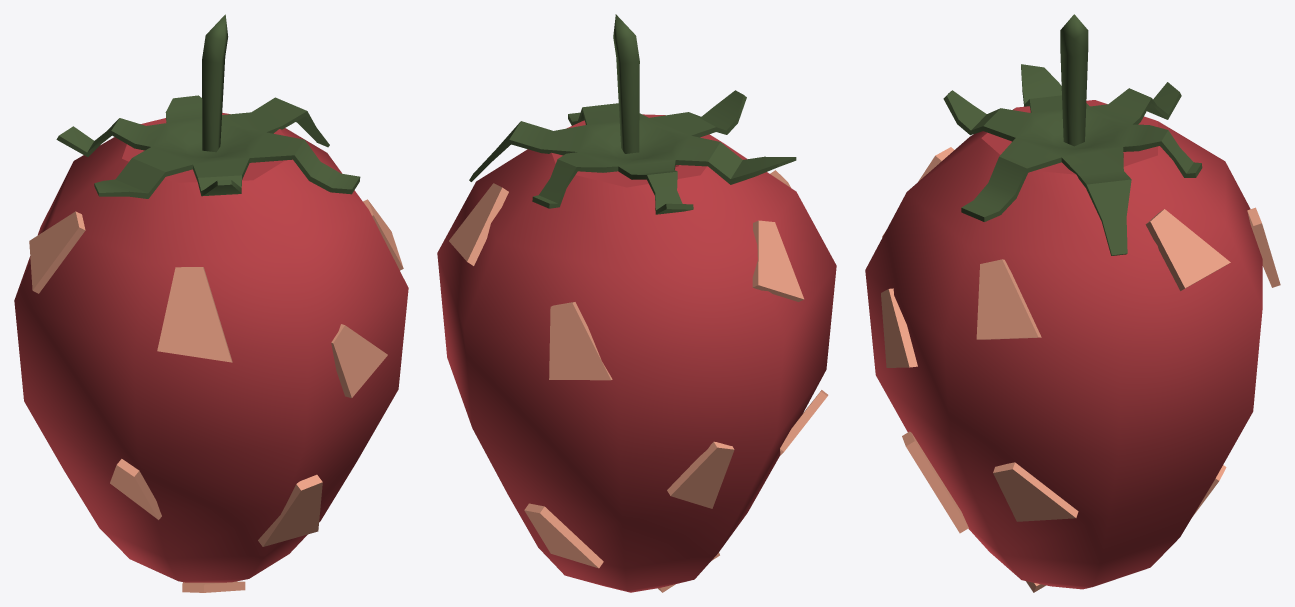
Rendered from SM_Strawberrry_Pickup.fbx.
The picture shows the model from 3 angles, left to right: view 1: azimuth 30°, elevation 25°; view 2: azimuth 150°, elevation 25°; view 3: azimuth 270°, elevation 25°; orthographic projection. The views are drawn at different scales.
Parts seen in each view (by area): view 1: SM_Strawberrry_Pickup; view 2: SM_Strawberrry_Pickup; view 3: SM_Strawberrry_Pickup.
Part boxes in pixels (x1,y1,x2,y2): SM_Strawberrry_Pickup: (14,14,408,592); SM_Strawberrry_Pickup: (437,14,836,592); SM_Strawberrry_Pickup: (865,14,1280,592).
Size of the model in its own units: 37.17 by 58.17 by 37.79.
